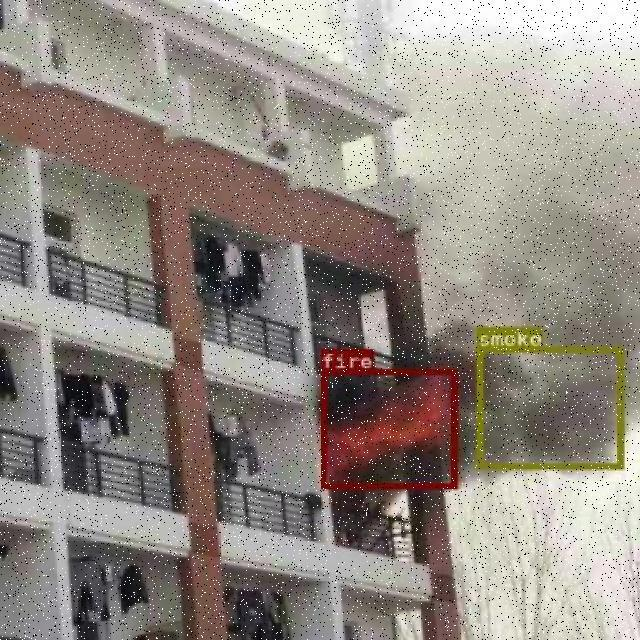Smoke: (511, 346, 586, 468)
